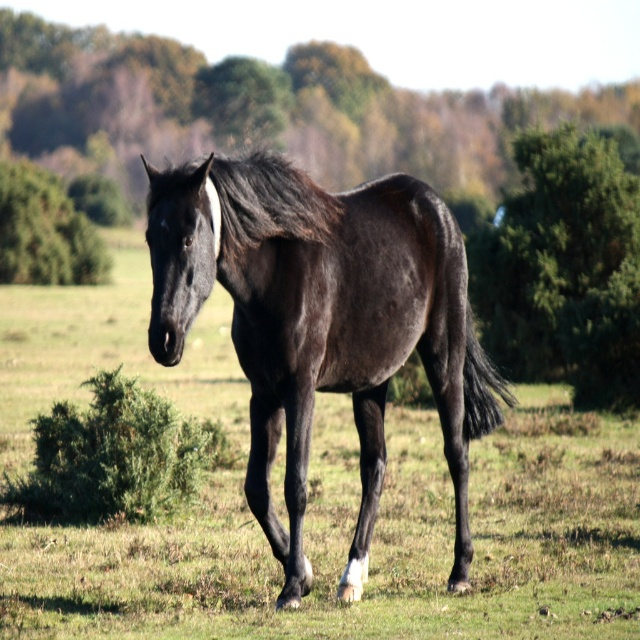Horse: (141, 150, 523, 608)
